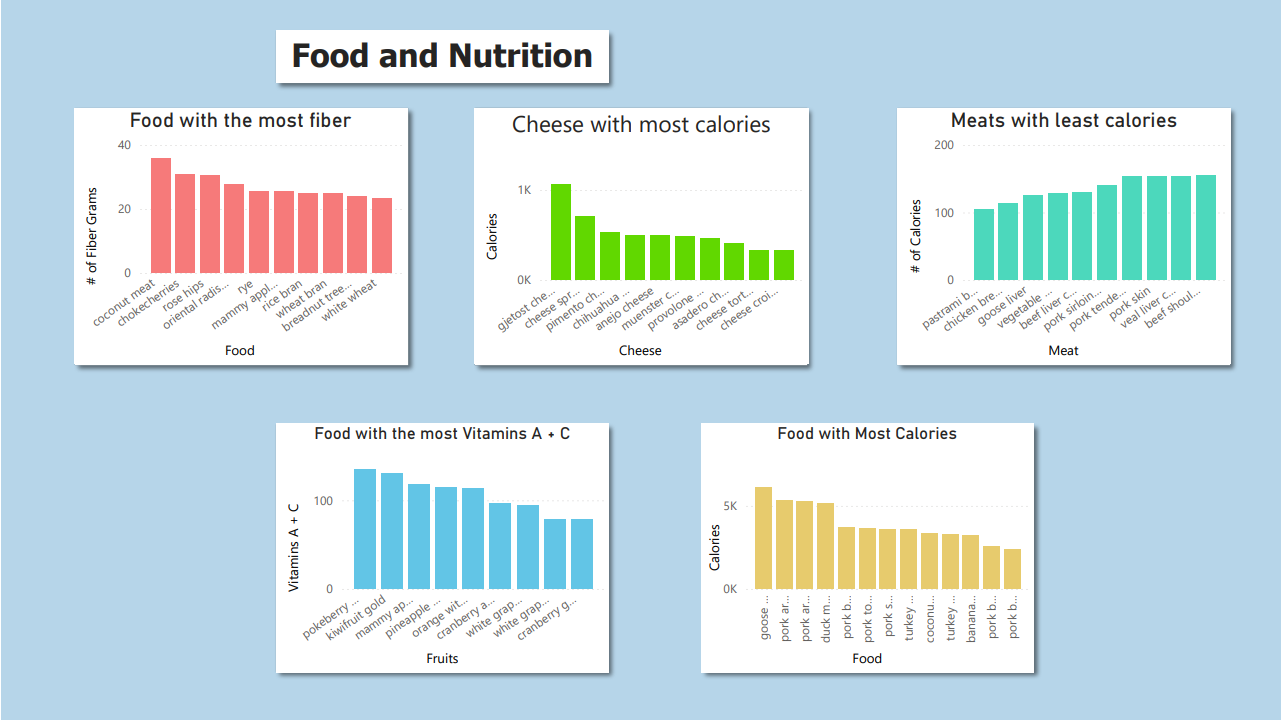

What the dashboard file says about the page in this screenshot:
{"tool":"powerbi","page":{"name":"Page 1","canvas":[1280,720],"ordinal":0},"visuals":[{"type":"shape","box":[464.6,98.8,350.1,274.8],"z":0},{"type":"shape","box":[887.4,98.8,350.8,274.8],"z":1000},{"type":"shape","box":[65.4,98.8,350.1,274.8],"z":2000},{"type":"shape","box":[266.3,414.9,350.1,265.7],"z":3000},{"type":"shape","box":[691.7,414.9,350.8,265.7],"z":4000},{"type":"shape","box":[266.3,21.6,350.1,70.7],"z":5000},{"type":"textbox","box":[274.8,30.1,333.1,53],"z":6000},{"type":"columnChart","title":"Food with the most fiber","fields":{"Category":["top_10_fiber_filtered.food"],"Y":["Sum(top_10_fiber_filtered.Dietary Fiber)"]},"box":[72.6,108,333.7,256.5],"z":7000},{"type":"columnChart","title":"Cheese with most calories","fields":{"Category":["top_10_cheeses.food"],"Y":["Sum(top_10_cheeses.Caloric Value)"]},"box":[473.1,108,334.4,256.5],"z":8000},{"type":"columnChart","title":"Meats with least calories","fields":{"Category":["top_10_least_calorie_meats.food"],"Y":["Sum(top_10_least_calorie_meats.Caloric Value)"]},"box":[895.9,108,333.7,256.5],"z":9000},{"type":"columnChart","title":"Food with the most Vitamins A + C","fields":{"Y":["Sum(top_10_vitamins_fruits.Vitamin A + C)"],"Category":["top_10_vitamins_fruits.food"]},"box":[274.8,423.4,333.1,249.3],"z":10000},{"type":"columnChart","title":"Food with Most Calories","fields":{"Category":["top_20_calories.food"],"Y":["Sum(top_20_calories.Caloric Value)"]},"box":[700.2,423.4,333.1,249.3],"z":11000},{"type":"shape","box":[77.9,137.4,22.9,157.1],"z":11001},{"type":"shape","box":[478.4,142.7,22.9,157.1],"z":11002},{"type":"shape","box":[901.1,137.4,22.9,157.1],"z":11003},{"type":"shape","box":[280.1,456.8,22.9,157.1],"z":11004},{"type":"shape","box":[700.2,463.3,18.3,157.1],"z":11005},{"type":"shape","box":[219.9,339,109.3,20.9],"z":11006},{"type":"shape","box":[607.9,339,109.3,20.9],"z":11007},{"type":"shape","box":[1042.5,339,109.3,20.9],"z":11008},{"type":"shape","box":[409.7,647.2,109.3,20.9],"z":11009},{"type":"shape","box":[832.4,647.2,109.3,20.9],"z":11010},{"type":"shape","box":[77.2,170.1,23.6,131.5],"z":11012},{"type":"shape","box":[477.7,170.1,23.6,131.5],"z":11014},{"type":"shape","box":[901.1,170.1,23.6,131.5],"z":11015},{"type":"shape","box":[700.2,482.3,23.6,131.5],"z":11017},{"type":"shape","box":[279.4,482.3,23.6,131.5],"z":11018},{"type":"shape","box":[183.9,339,110.6,20.9],"z":11019},{"type":"shape","box":[584.4,339,110.6,20.9],"z":11020},{"type":"shape","box":[1007.1,339,110.6,20.9],"z":11021},{"type":"shape","box":[386.1,647.2,110.6,20.9],"z":11022},{"type":"shape","box":[811.5,647.2,110.6,20.9],"z":11023}]}

Visuals, with their boxes in screenshot pixels (x1, y1, x2, y2), scaled from the page's 1280x720 canvas onto the 1281x722 screenshot:
shape: <bbox>465, 99, 815, 375</bbox>
shape: <bbox>888, 99, 1239, 375</bbox>
shape: <bbox>65, 99, 416, 375</bbox>
shape: <bbox>267, 416, 617, 682</bbox>
shape: <bbox>692, 416, 1043, 682</bbox>
shape: <bbox>267, 22, 617, 93</bbox>
textbox: <bbox>275, 30, 608, 83</bbox>
"Food with the most fiber" columnChart: <bbox>73, 108, 407, 366</bbox>
"Cheese with most calories" columnChart: <bbox>473, 108, 808, 366</bbox>
"Meats with least calories" columnChart: <bbox>897, 108, 1231, 366</bbox>
"Food with the most Vitamins A + C" columnChart: <bbox>275, 425, 608, 675</bbox>
"Food with Most Calories" columnChart: <bbox>701, 425, 1034, 675</bbox>
shape: <bbox>78, 138, 101, 295</bbox>
shape: <bbox>479, 143, 502, 301</bbox>
shape: <bbox>902, 138, 925, 295</bbox>
shape: <bbox>280, 458, 303, 616</bbox>
shape: <bbox>701, 465, 719, 622</bbox>
shape: <bbox>220, 340, 329, 361</bbox>
shape: <bbox>608, 340, 718, 361</bbox>
shape: <bbox>1043, 340, 1153, 361</bbox>
shape: <bbox>410, 649, 519, 670</bbox>
shape: <bbox>833, 649, 942, 670</bbox>
shape: <bbox>77, 171, 101, 302</bbox>
shape: <bbox>478, 171, 502, 302</bbox>
shape: <bbox>902, 171, 925, 302</bbox>
shape: <bbox>701, 484, 724, 616</bbox>
shape: <bbox>280, 484, 303, 616</bbox>
shape: <bbox>184, 340, 295, 361</bbox>
shape: <bbox>585, 340, 696, 361</bbox>
shape: <bbox>1008, 340, 1119, 361</bbox>
shape: <bbox>386, 649, 497, 670</bbox>
shape: <bbox>812, 649, 923, 670</bbox>
